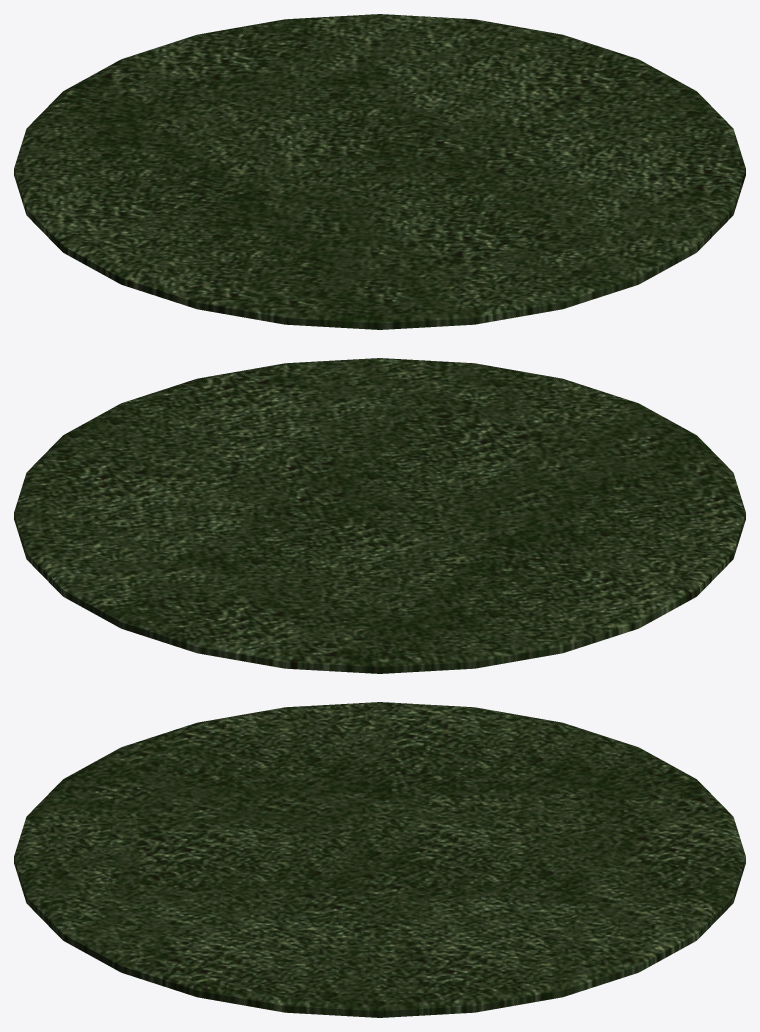
The model's file is tapis.FBX.
3 views of the same model, one above another, from view 1: azimuth 30°, elevation 25°; view 2: azimuth 150°, elevation 25°; view 3: azimuth 270°, elevation 25° (orthographic).
Parts seen in each view (by area): view 1: Cylinder002; view 2: Cylinder002; view 3: Cylinder002.
Part boxes in pixels (x1,y1,x2,y2): Cylinder002: [14, 14, 745, 329]; Cylinder002: [14, 358, 745, 673]; Cylinder002: [14, 702, 745, 1017].
Bounding box in the file's own units: 300 × 4.11 × 300.
